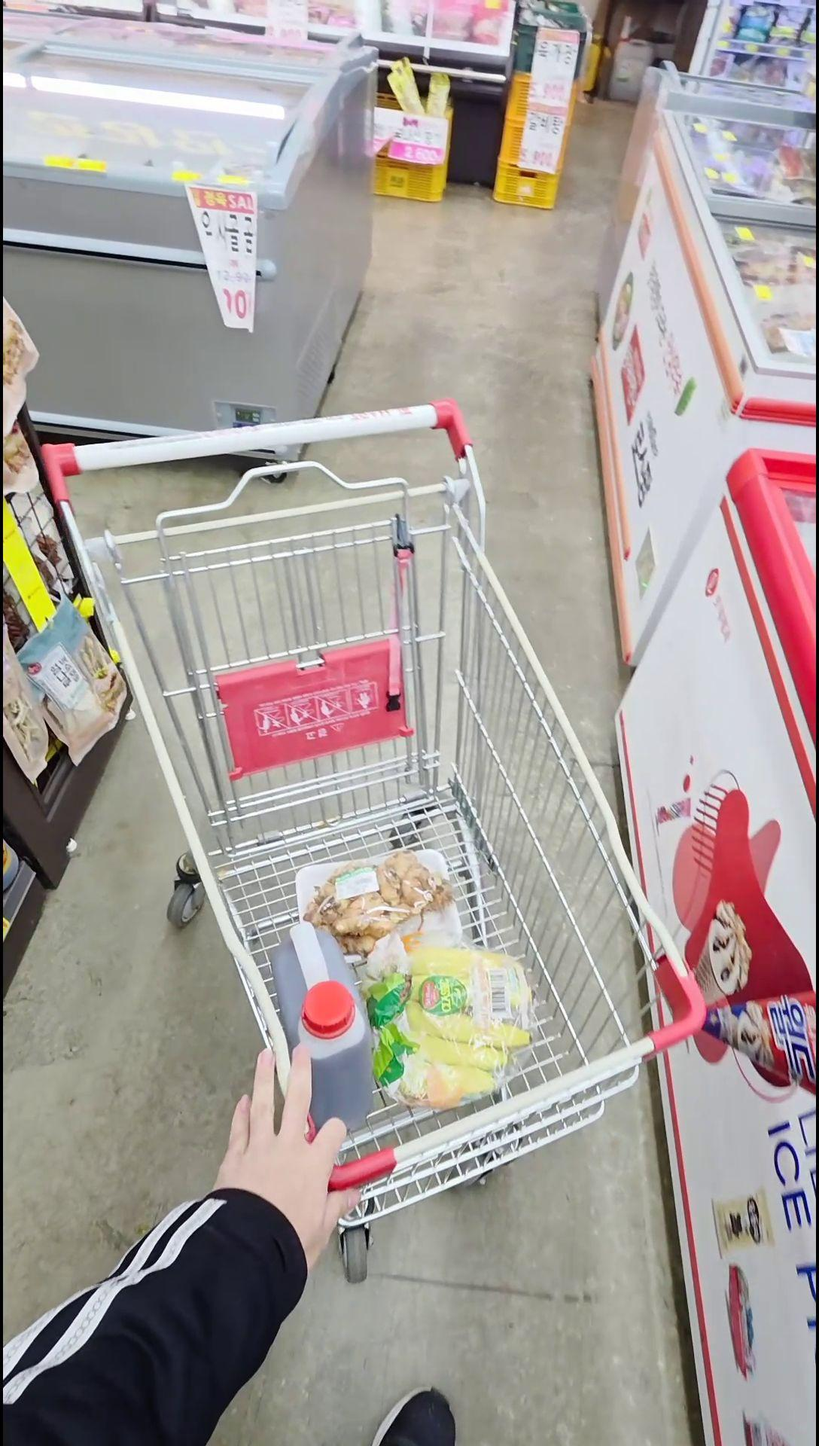fully_cart: (32, 387, 714, 1285)
